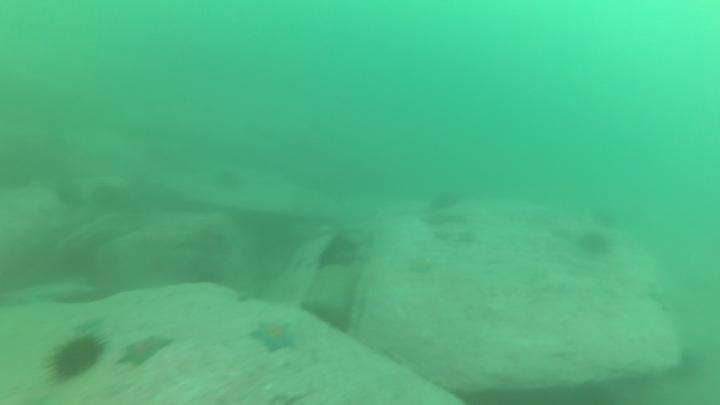echinus: (46, 333, 109, 390), (577, 230, 613, 260)
starfish: (115, 331, 174, 372), (250, 315, 300, 359), (73, 314, 110, 336)
